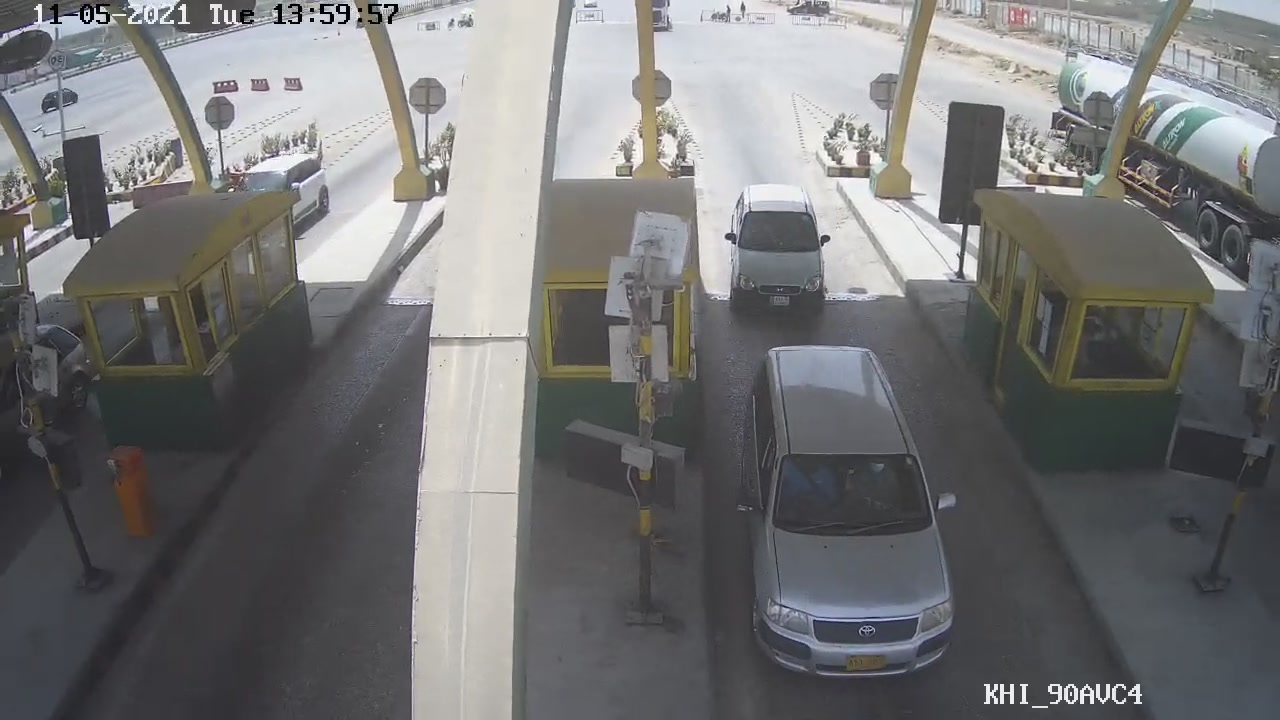F1: (736, 342, 962, 683), (718, 179, 836, 320)
